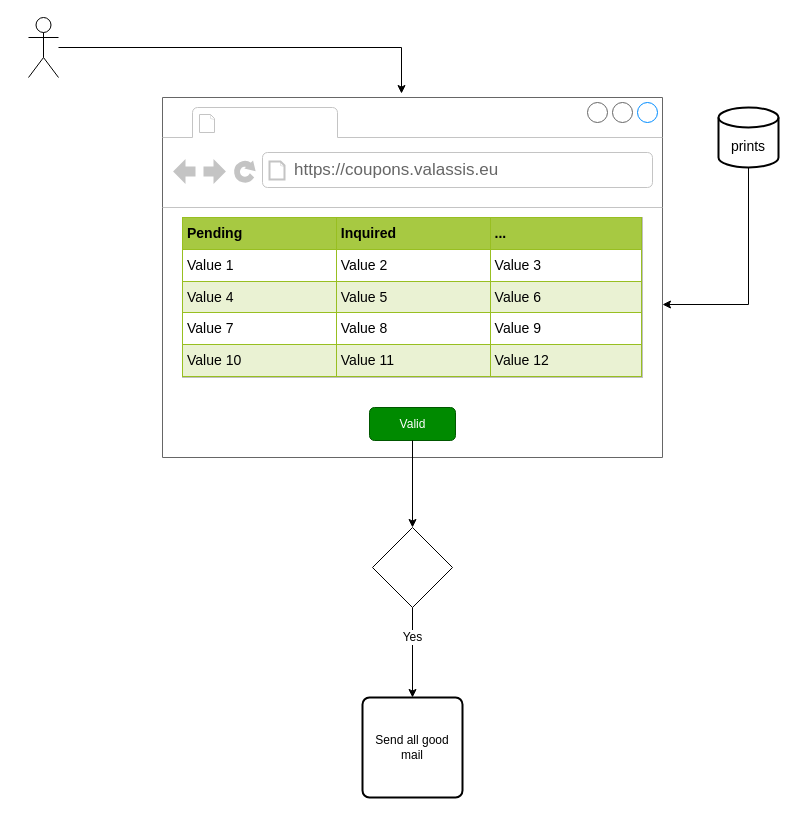
The diagram is 797 pixels wide and 816 high, and some of its shapes have lost their labels. Each missing label, with the centre of its shape:
"Amount reached" belongs at [412,567].
"BLP" belongs at [277,122].
"Cashback operator" belongs at [43,47].
